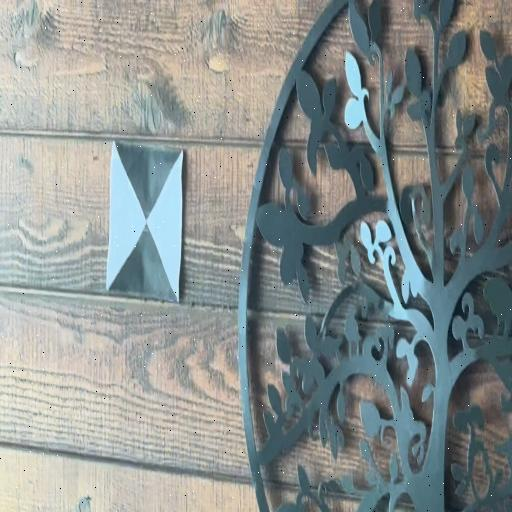target: (105, 142, 184, 302)
